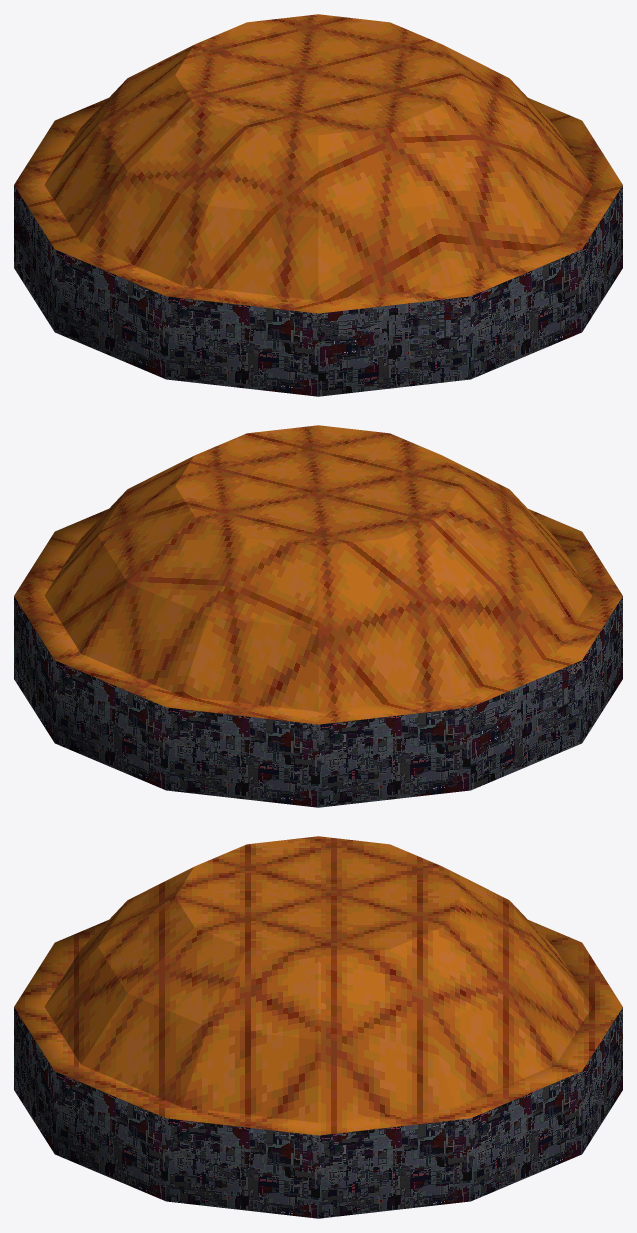
Rendered from Red_Hazard_Cylinder_Hallway_TRI_WALL-col.001.glb.
The picture shows the model from 3 angles, top to bottom: view 1: azimuth 30°, elevation 25°; view 2: azimuth 150°, elevation 25°; view 3: azimuth 270°, elevation 25°; orthographic projection.
Parts seen in each view (by area): view 1: Red_Hazard_Cylinder_Hallway_TRI_WALL-col.001; view 2: Red_Hazard_Cylinder_Hallway_TRI_WALL-col.001; view 3: Red_Hazard_Cylinder_Hallway_TRI_WALL-col.001.
Part boxes in pixels (<box>): Red_Hazard_Cylinder_Hallway_TRI_WALL-col.001: <box>14,14,622,396</box>; Red_Hazard_Cylinder_Hallway_TRI_WALL-col.001: <box>14,425,622,807</box>; Red_Hazard_Cylinder_Hallway_TRI_WALL-col.001: <box>14,836,622,1218</box>.
Size of the model in its own units: 9.02 by 3.16 by 9.02.
Materials: 1 (1 with a texture image).
